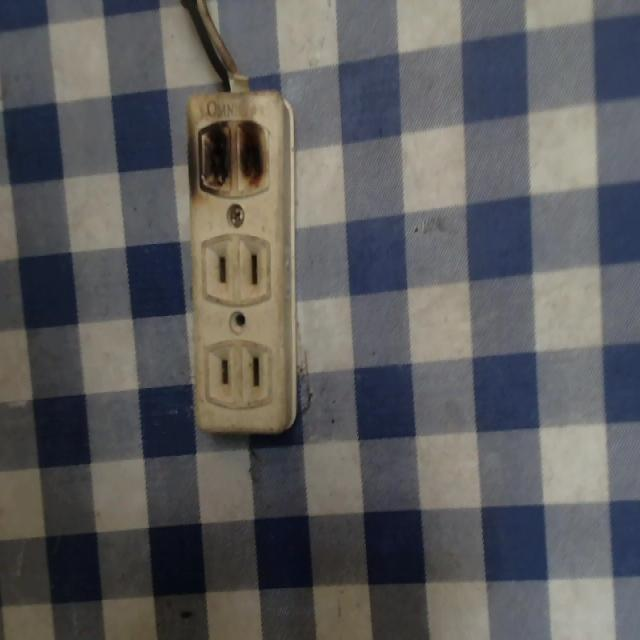-: (183, 114, 280, 202)
